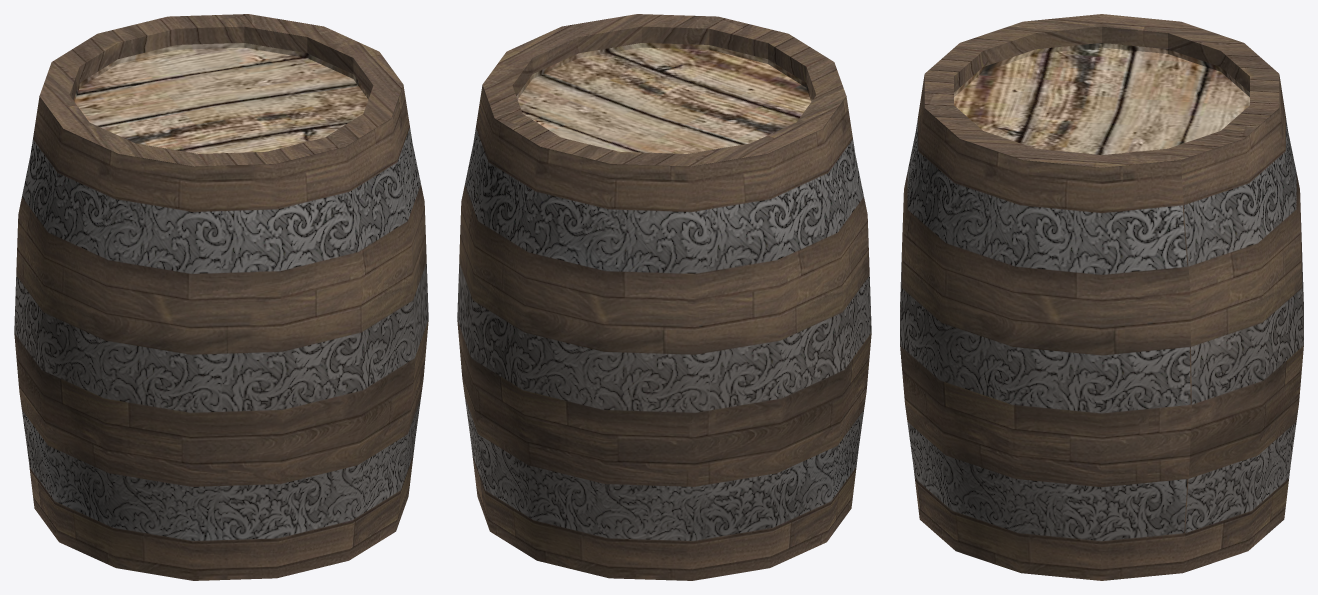
The model's file is Keg.fbx.
3 renders of one model, left to right at view 1: azimuth 30°, elevation 25°; view 2: azimuth 150°, elevation 25°; view 3: azimuth 270°, elevation 25°, orthographic.
Parts seen in each view (by area): view 1: pCylinder1; view 2: pCylinder1; view 3: pCylinder1.
Boxes of the visible parts, left/top/right/bottom form: pCylinder1: left=14, top=14, right=428, bottom=580; pCylinder1: left=457, top=14, right=871, bottom=580; pCylinder1: left=900, top=14, right=1303, bottom=580.
Bounding box in the file's own units: 3.94 × 4.31 × 3.84.
Materials: 1 (1 with a texture image).
